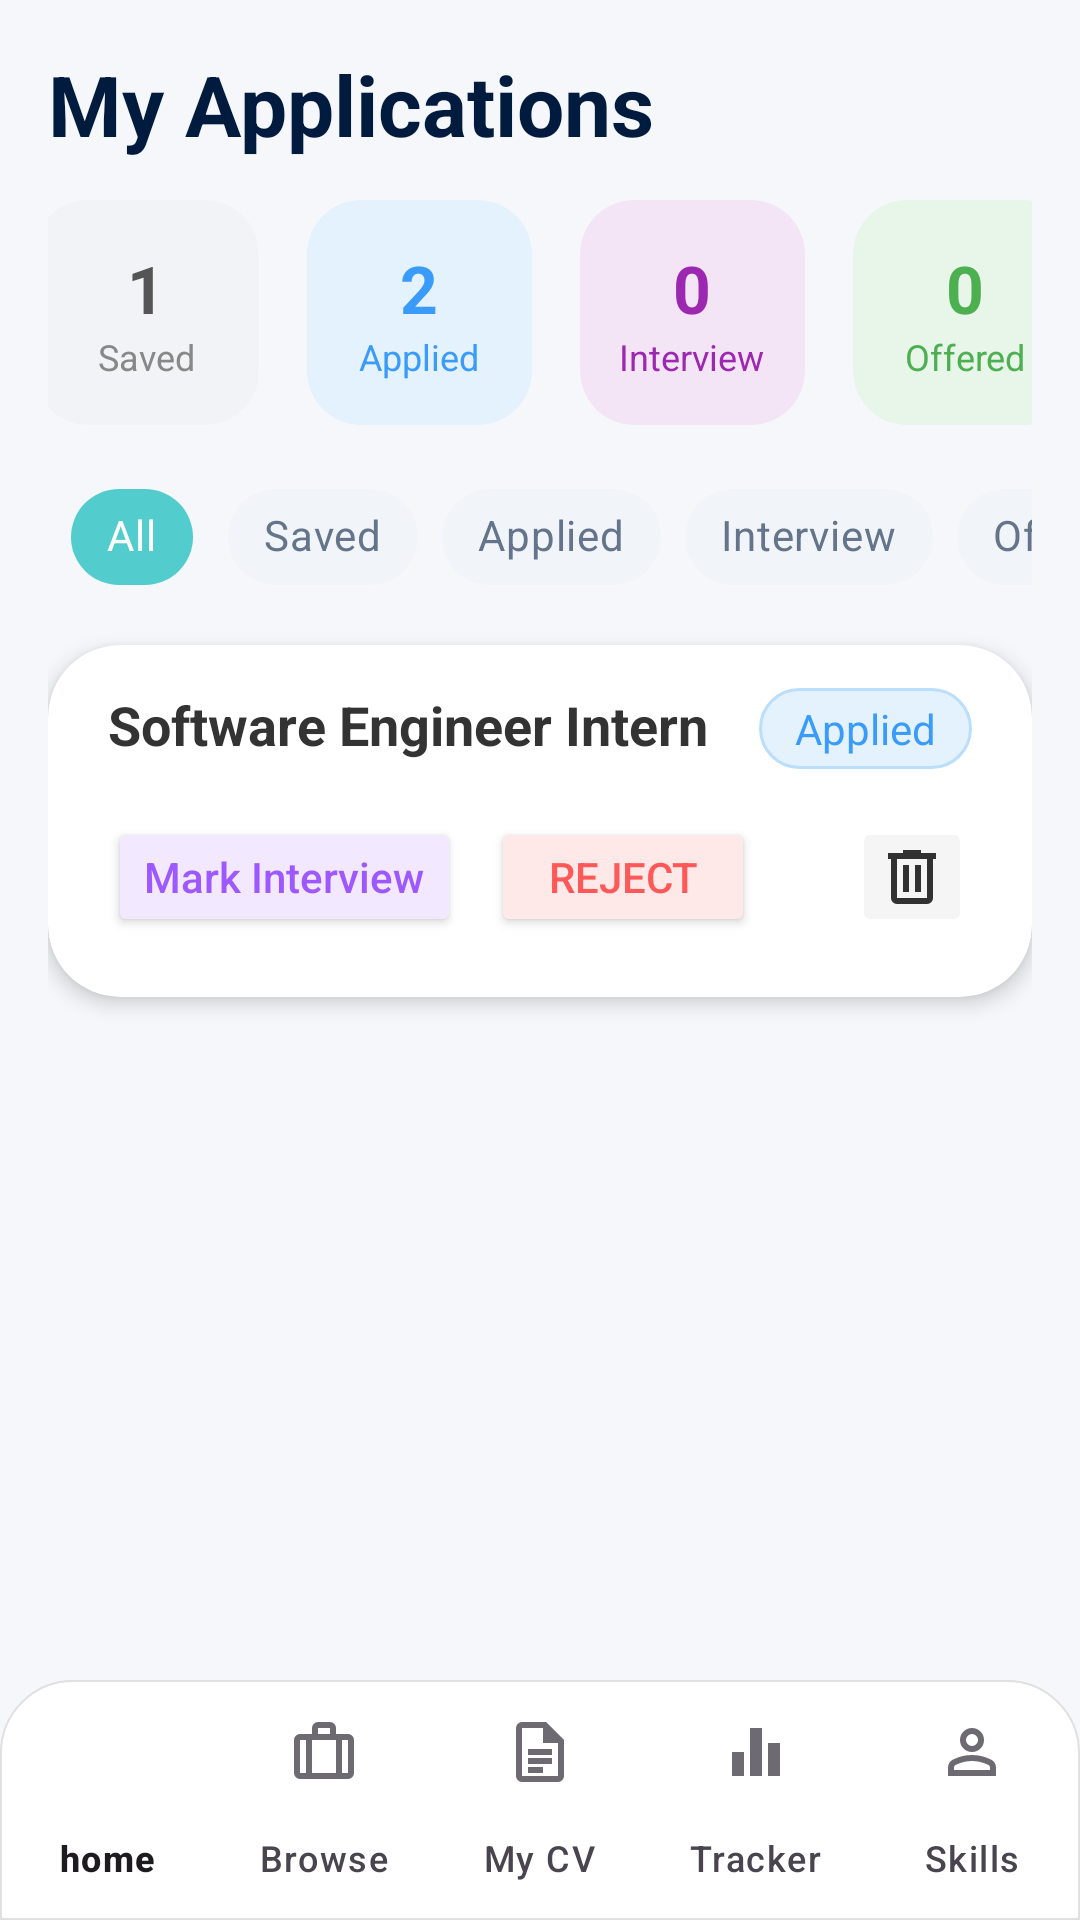

Named icons in this screenshot (1080×1920) and their bounding boxes, box(x1, y1, x2, y2):
Delete this item: box(888, 850, 936, 904)
